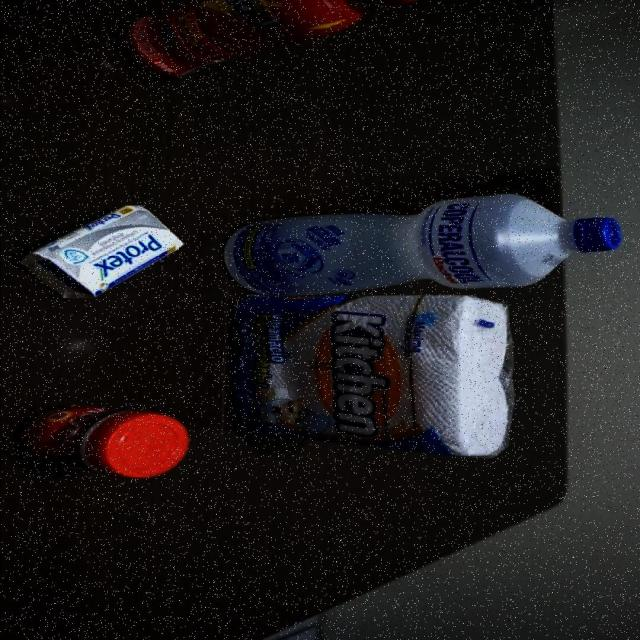AlcoholBottle: (229, 195, 617, 298)
ChocolateMilk: (120, 0, 443, 80)
Napkin: (217, 294, 507, 452)
Soap: (8, 201, 188, 304)
Yeast: (8, 406, 188, 479)
